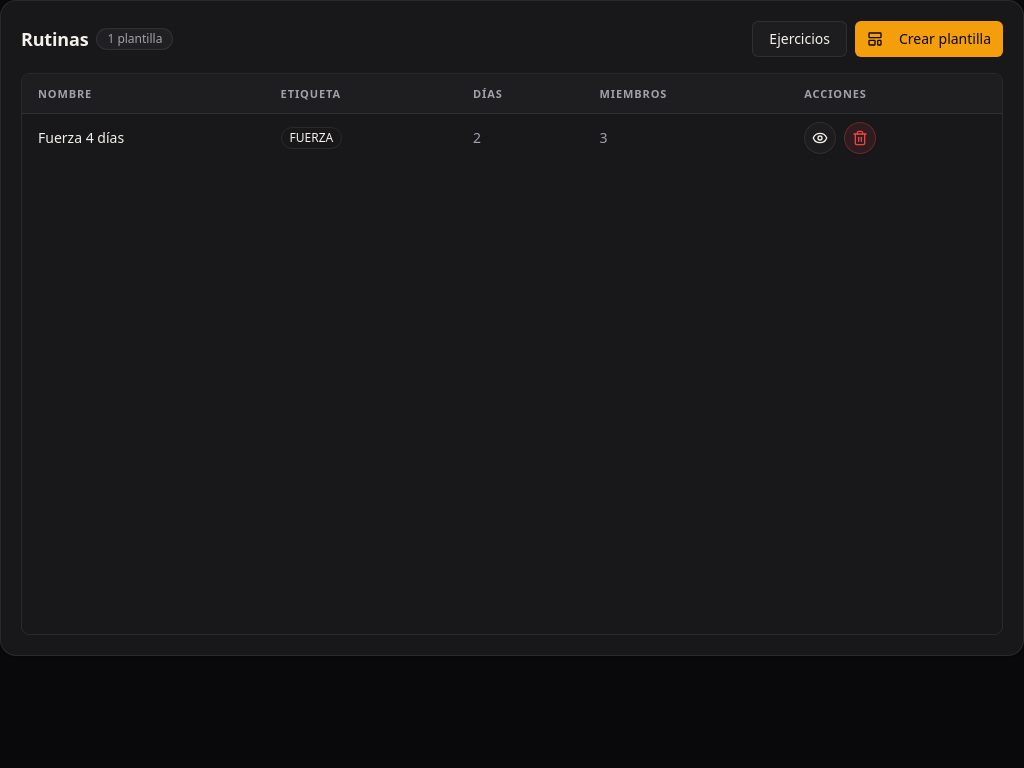
it: vista de Rutinas › muestra el 409 del backend cuando la plantilla tiene asignaciones vigentes
The image size is (1024, 768).
Expected: the text "Fuerza 4 días" is shown, [22,114,265,162]
Click the button named "Eliminar": (860, 138) [844,122,876,154]
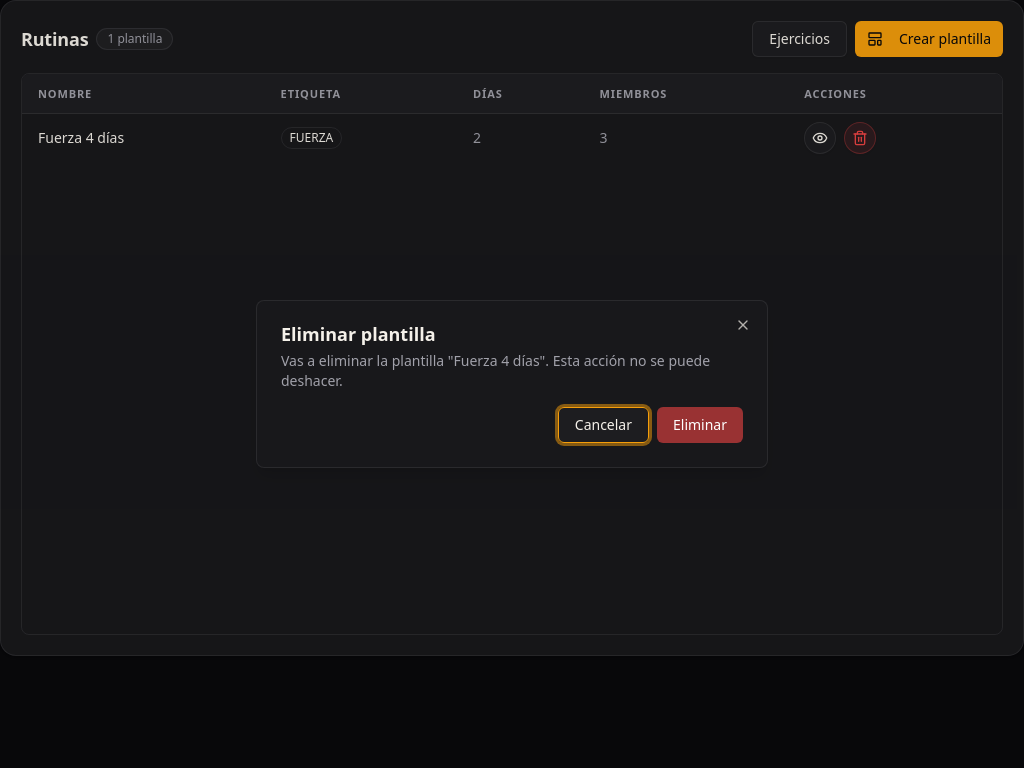
Click the button "Eliminar": (700, 425) [657,407,743,443]
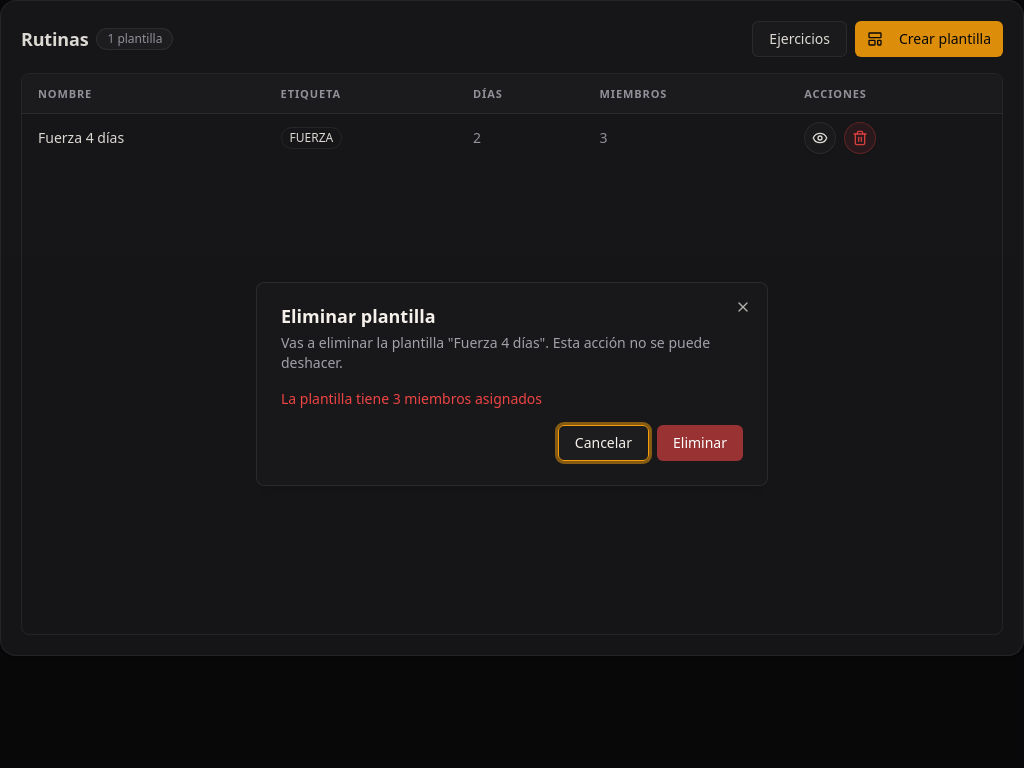
Expected: the text "Fuerza 4 días" is shown, [22,114,265,162]
Now the message reads "La plantilla tiene 3 miembros asignados", box [281,389,542,408]
